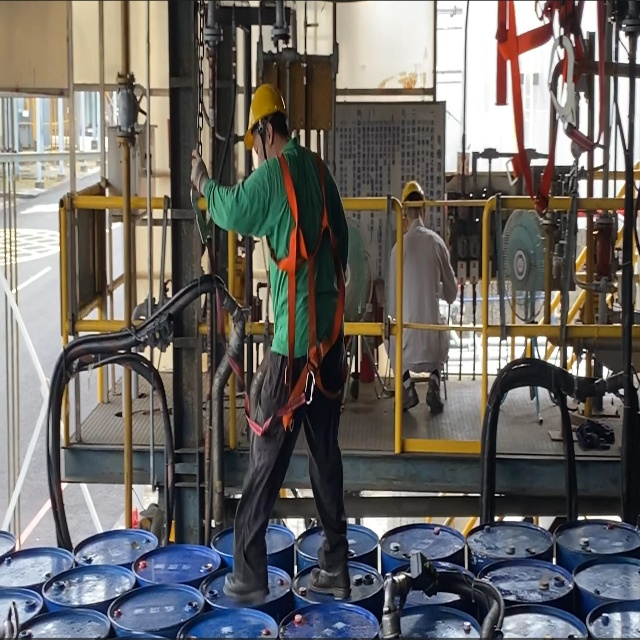Arnes_seguridad: (267, 144, 347, 441)
